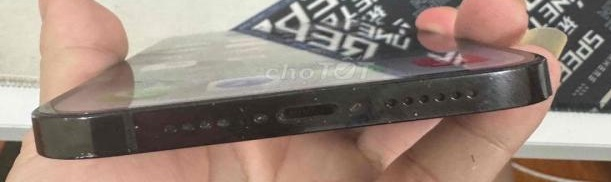scratch: (237, 69, 579, 132), (55, 142, 120, 170)
